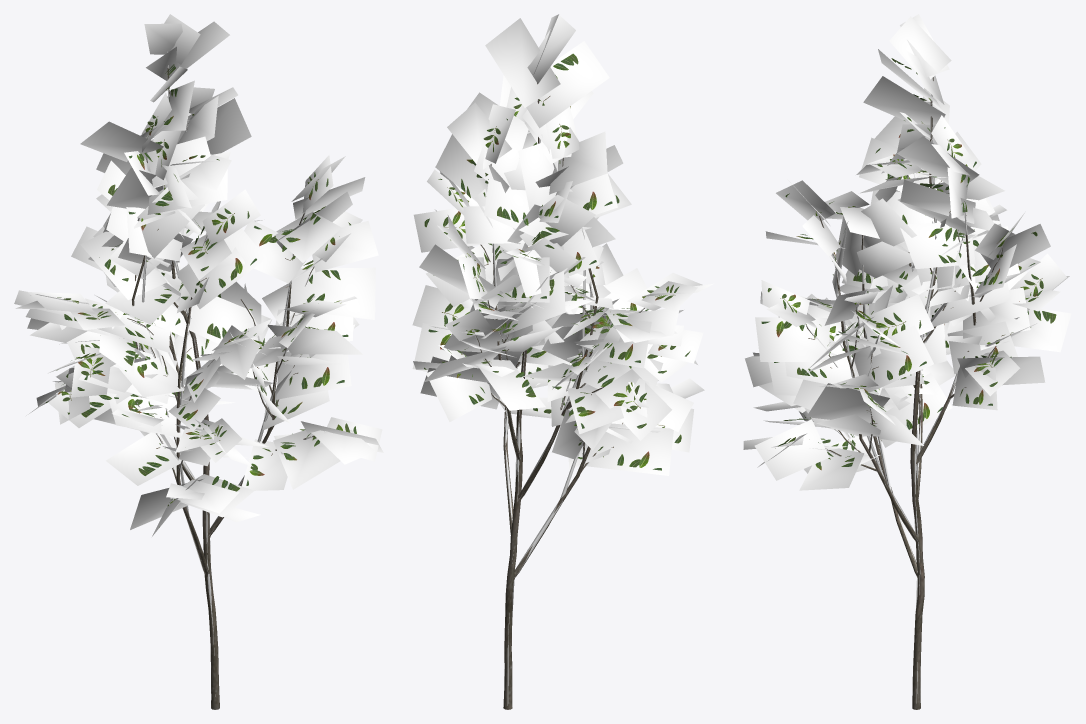
File: peppertree_sapling.glb
3 renders of one model, left to right at view 1: azimuth 30°, elevation 25°; view 2: azimuth 150°, elevation 25°; view 3: azimuth 270°, elevation 25°, orthographic. The views are drawn at different scales.
Visible parts, largest first — view 1: peppertree_sapling; view 2: peppertree_sapling; view 3: peppertree_sapling.
Part boxes in pixels (<box>): peppertree_sapling: <box>14,14,383,709</box>; peppertree_sapling: <box>412,14,713,709</box>; peppertree_sapling: <box>743,14,1071,709</box>.
Size of the model in its own units: 1.65 by 3.63 by 1.61.
3 materials, 2 textured.
